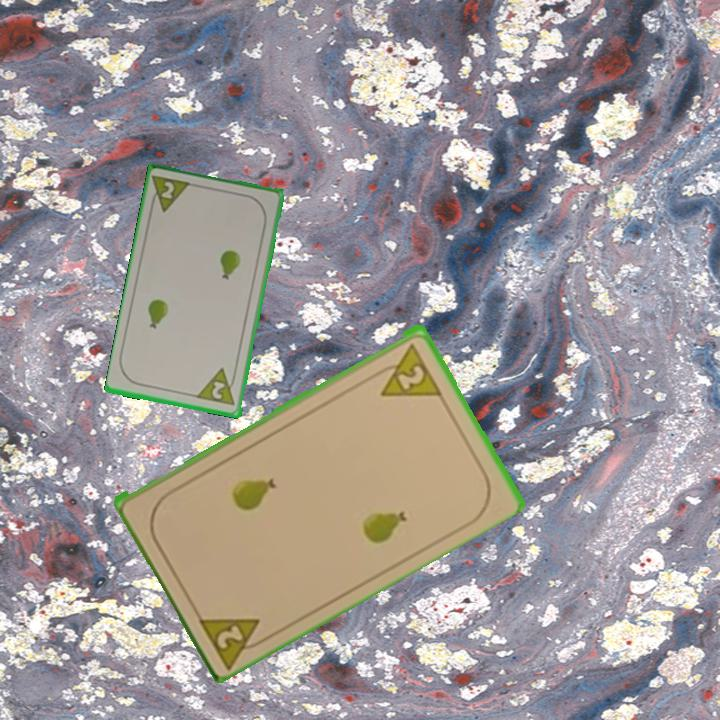2p: (193, 610, 274, 670), (369, 339, 444, 400), (146, 172, 195, 216), (195, 365, 240, 409)
